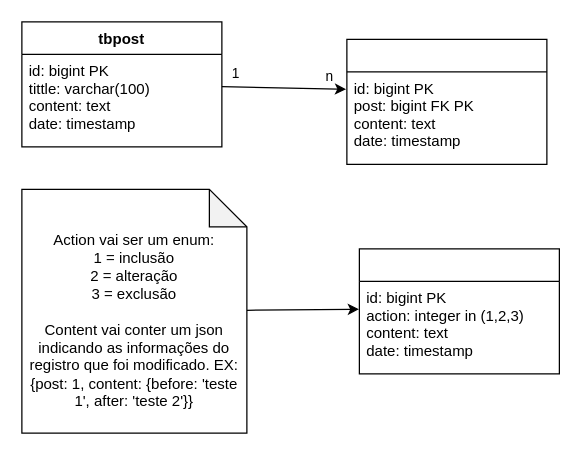
Image size: 581x455. Some labels were removed from this diagram. Here are the shapes that lost their labels. From the top down, the box of each, then its label:
(346, 38, 547, 164): tbcomment
(358, 248, 559, 374): tblog
